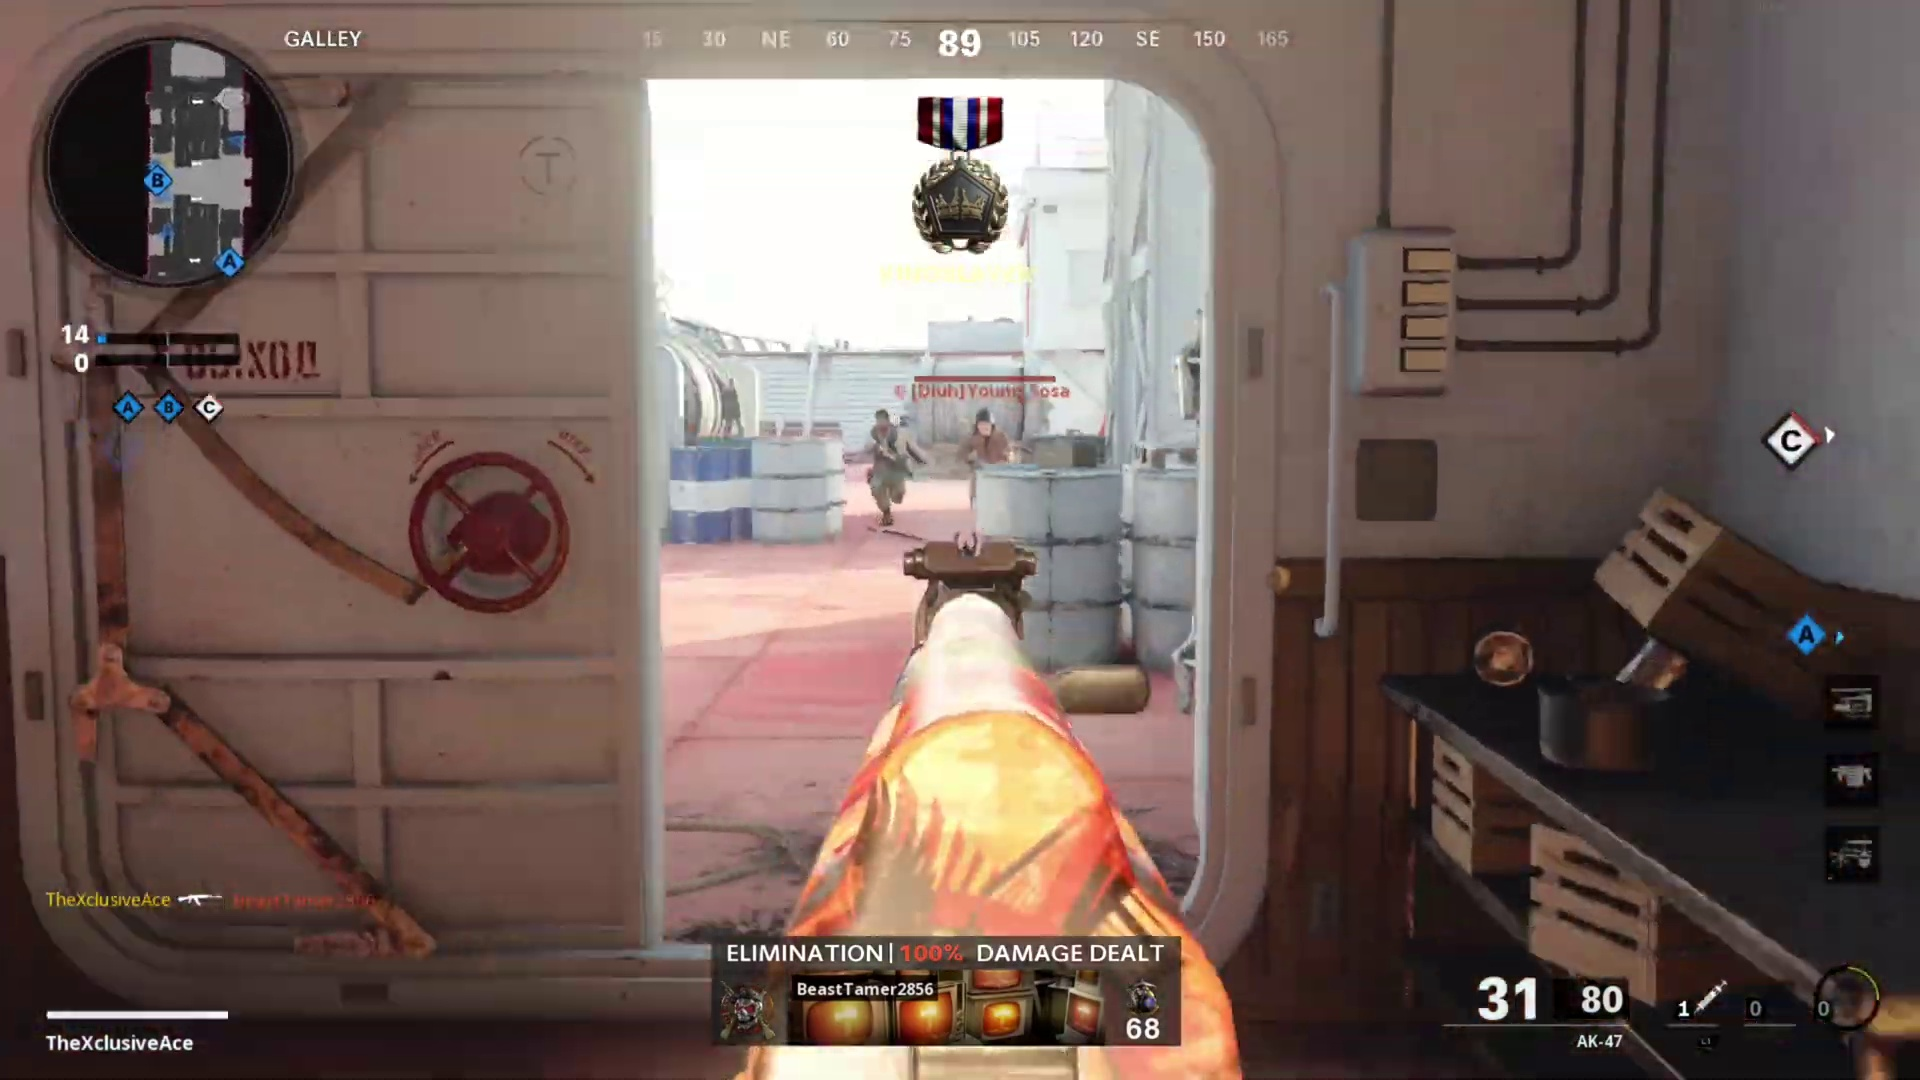head: (971, 404, 1002, 445), (870, 407, 894, 435)
person: (858, 408, 918, 528), (953, 406, 1013, 466)
